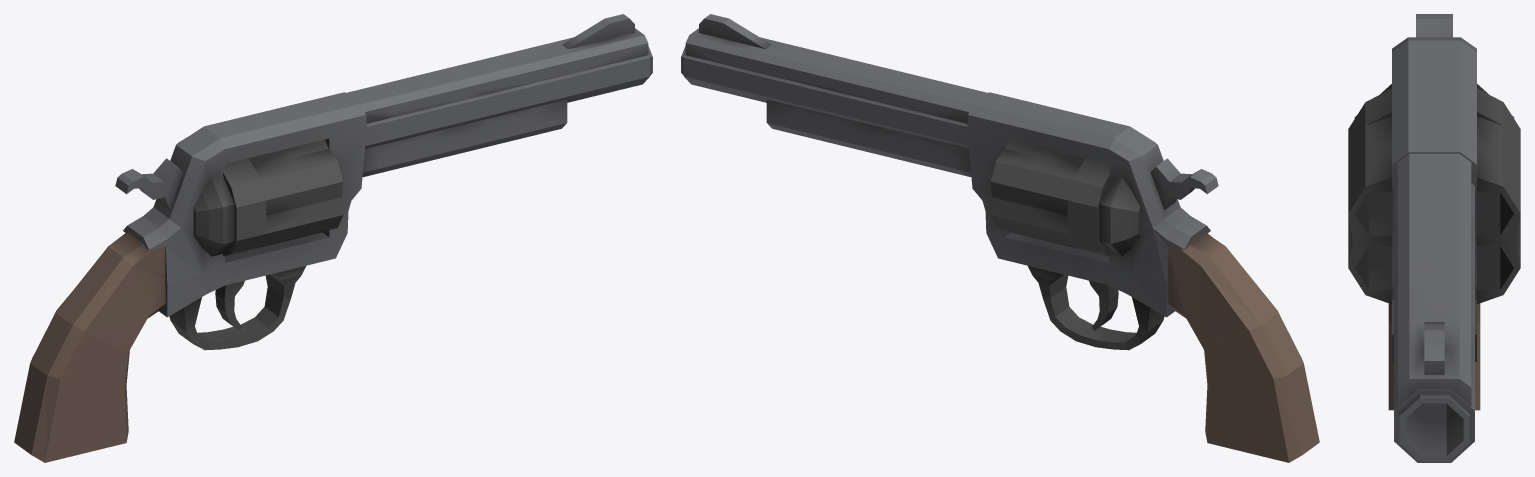
Rendered from q-revolver-1.glb.
3 views of the same model, side by side, from view 1: azimuth 30°, elevation 25°; view 2: azimuth 150°, elevation 25°; view 3: azimuth 270°, elevation 25° (orthographic). The views are drawn at different scales.
Parts seen in each view (by area): view 1: body; view 2: body; view 3: body.
Boxes of the visible parts, x1,y1,x2,y2 form: body: (14,14,652,462); body: (681,14,1319,462); body: (1348,14,1520,462).
Bounding box in the file's own units: 0.26 × 0.1167 × 0.0386.
